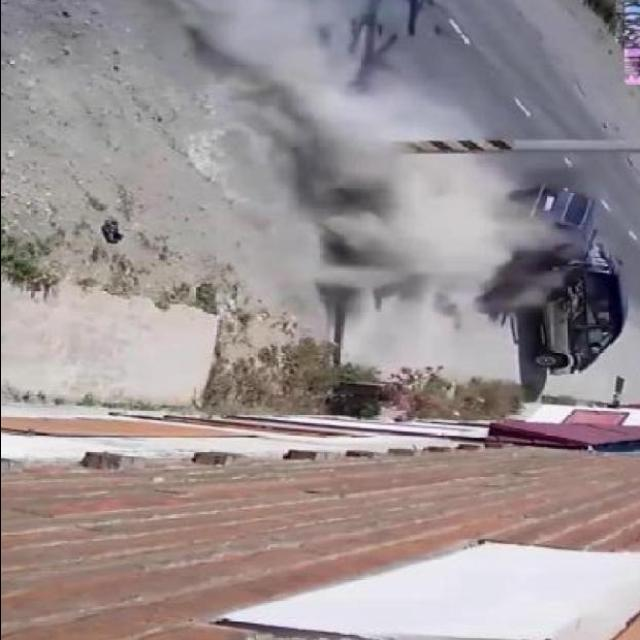accident: (509, 214, 623, 328)
